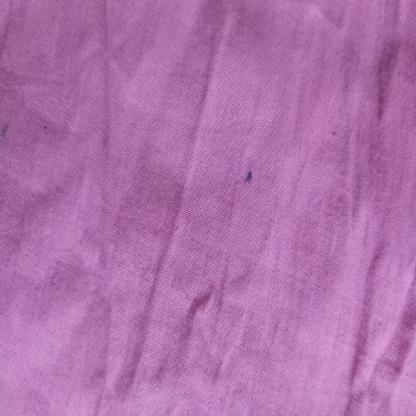spot: (241, 160, 256, 196)
